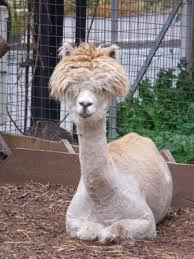alpaca: (45, 40, 174, 243)
